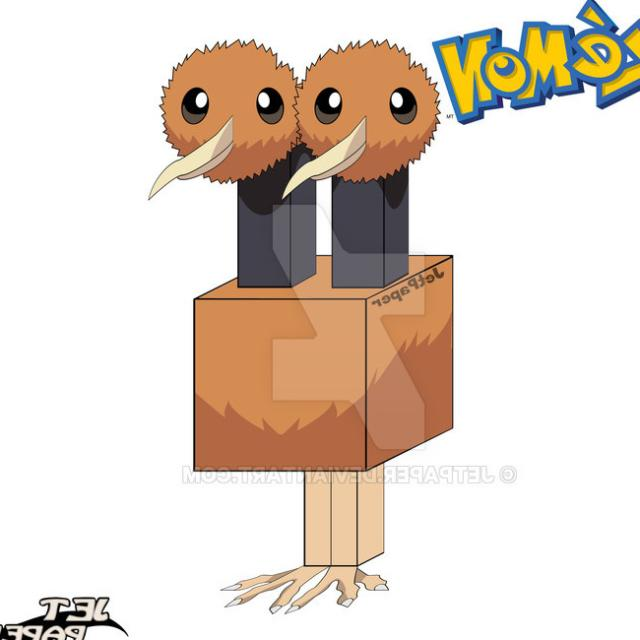Doduo: (180, 39, 446, 607)
